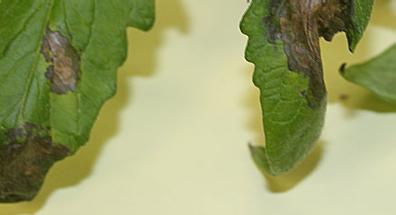Tomato leaf late blight: (0, 0, 193, 208), (227, 0, 388, 188)
